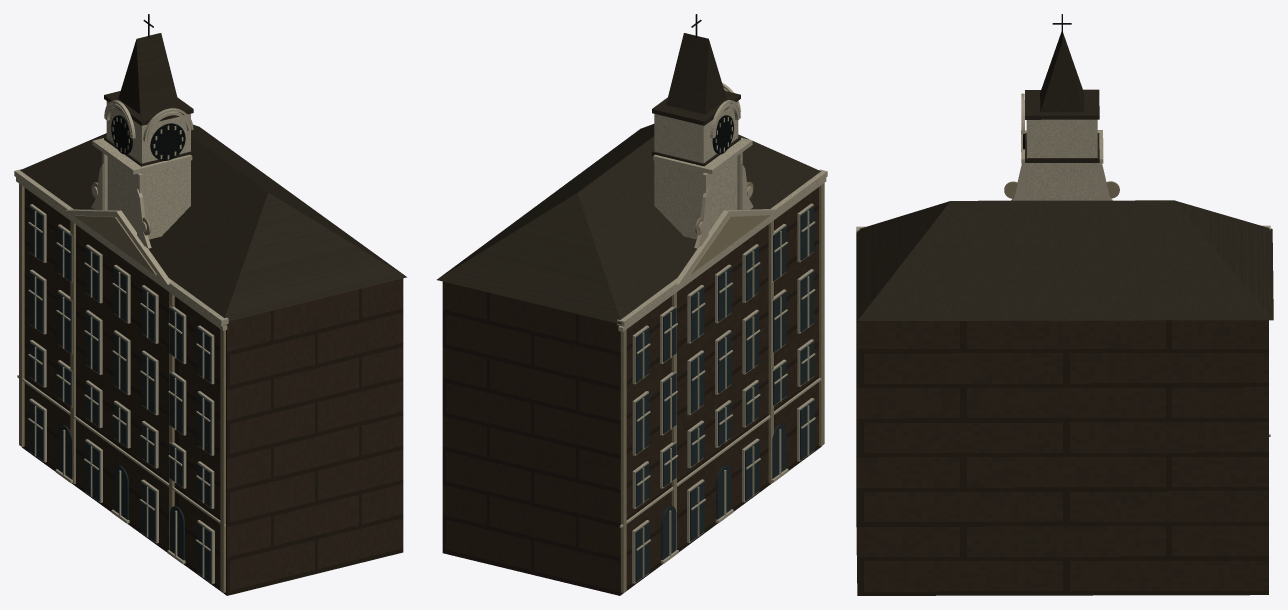
3 views of the same model, side by side, from view 1: azimuth 30°, elevation 25°; view 2: azimuth 150°, elevation 25°; view 3: azimuth 270°, elevation 25° (orthographic).
Visible parts, largest first — view 1: twee-leeuwen-0, twee-leeuwen-1, twee-leeuwen-2, twee-leeuwen-5, twee-leeuwen-3, twee-leeuwen-4; view 2: twee-leeuwen-0, twee-leeuwen-1, twee-leeuwen-2, twee-leeuwen-5, twee-leeuwen-3, twee-leeuwen-4; view 3: twee-leeuwen-0, twee-leeuwen-1, twee-leeuwen-2.
Part boxes in pixels (<box>): twee-leeuwen-0: <box>22,188,403,595</box>; twee-leeuwen-1: <box>20,33,406,321</box>; twee-leeuwen-2: <box>14,100,228,583</box>; twee-leeuwen-5: <box>29,206,211,582</box>; twee-leeuwen-3: <box>19,182,225,592</box>; twee-leeuwen-4: <box>111,14,185,160</box>; twee-leeuwen-0: <box>442,187,821,595</box>; twee-leeuwen-1: <box>437,33,820,324</box>; twee-leeuwen-2: <box>617,82,827,583</box>; twee-leeuwen-5: <box>635,206,814,581</box>; twee-leeuwen-3: <box>621,182,824,592</box>; twee-leeuwen-4: <box>691,14,733,154</box>; twee-leeuwen-0: <box>856,250,1268,595</box>; twee-leeuwen-1: <box>856,32,1273,320</box>; twee-leeuwen-2: <box>856,93,1270,436</box>.
Bounding box in the file's own units: 11.81 × 29.25 × 21.86.
6 materials, 6 textured.
